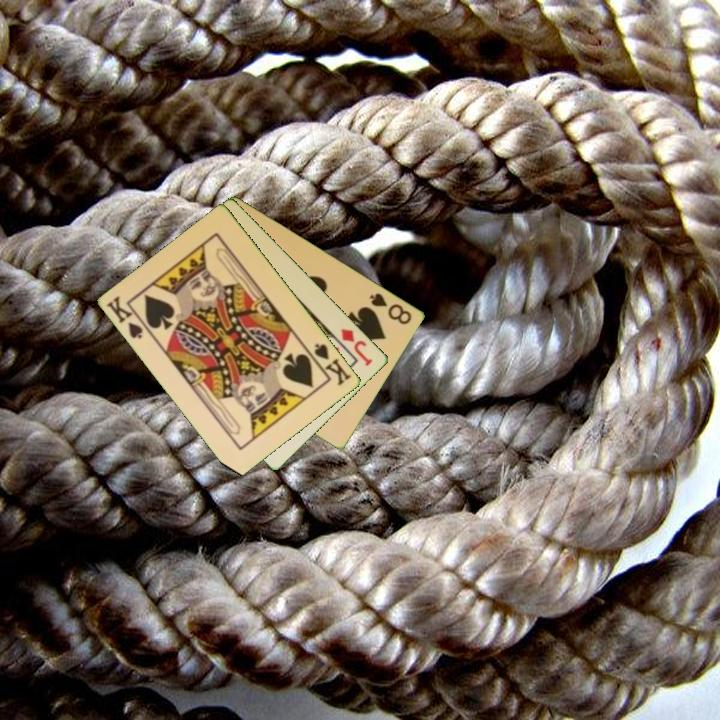8s: (366, 289, 415, 328)
Jd: (338, 324, 376, 369)
Ks: (305, 340, 355, 389), (104, 292, 153, 342)
